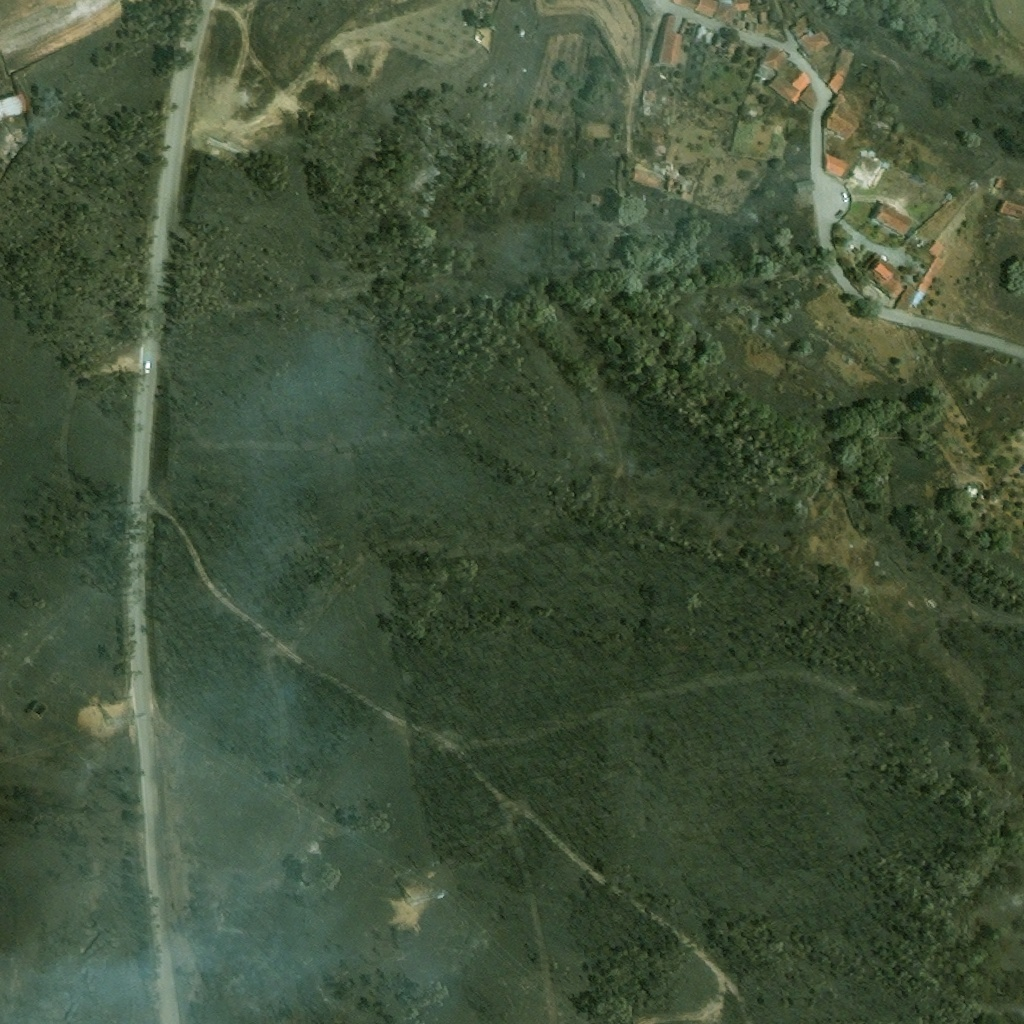0 no-damage: (910, 239, 951, 307), (649, 12, 682, 64), (871, 201, 914, 238), (866, 259, 905, 299), (764, 72, 811, 105), (822, 102, 859, 139), (796, 30, 831, 57), (0, 94, 28, 121), (760, 47, 787, 73), (678, 17, 706, 42), (823, 154, 850, 177), (713, 2, 738, 24), (895, 286, 916, 311), (997, 199, 1023, 219), (824, 72, 847, 94), (835, 48, 852, 75), (800, 84, 816, 109), (788, 20, 809, 39), (793, 178, 816, 193), (703, 27, 721, 45), (757, 11, 778, 23)
2 major-damage: (993, 177, 1023, 194)
3 destroyed: (477, 0, 499, 27)
4 un-classified: (694, 0, 717, 17), (732, 0, 770, 10), (673, 0, 698, 9)
